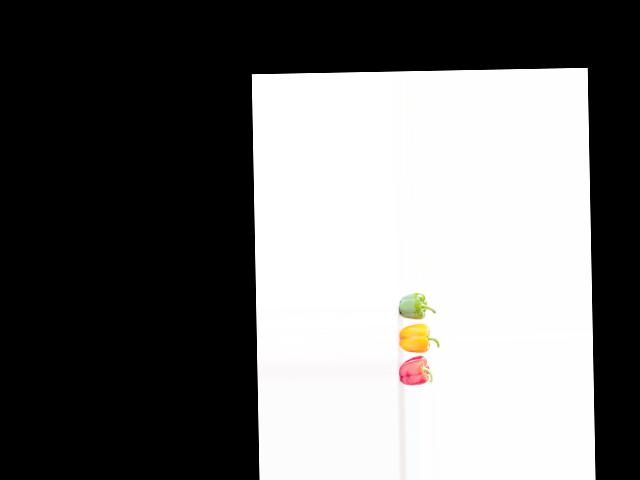bell_pepper: (399, 354, 440, 387)
